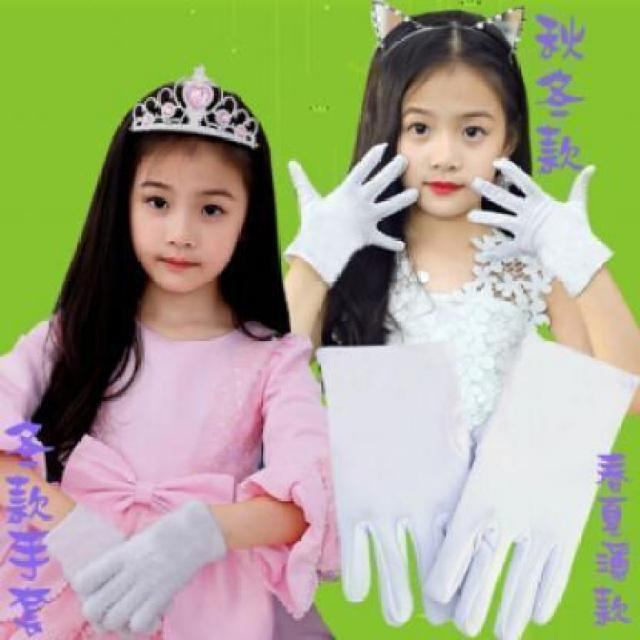face_nomask: (129, 155, 249, 297), (389, 86, 520, 211)
hand_glove: (282, 134, 423, 268), (468, 152, 598, 272), (78, 503, 204, 625)
head_nohelmet: (369, 2, 528, 100), (106, 78, 272, 168)
person: (307, 4, 609, 640), (49, 63, 326, 640)
